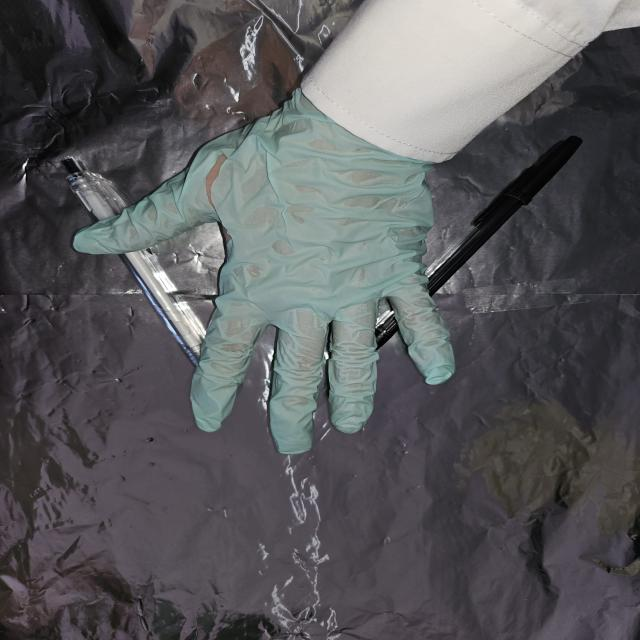gloves_damaged: (70, 88, 460, 454)
